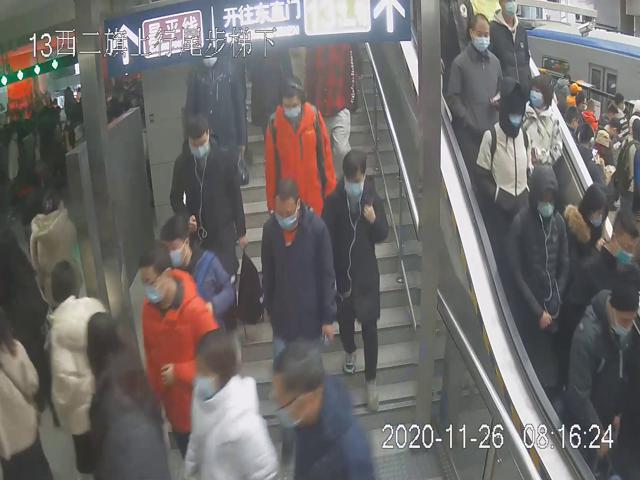person: (171, 111, 263, 332), (317, 148, 390, 420), (135, 240, 219, 465), (561, 266, 640, 480), (256, 181, 340, 376), (263, 73, 337, 238), (506, 159, 569, 350), (469, 79, 534, 233), (160, 214, 235, 341), (446, 10, 502, 153)
